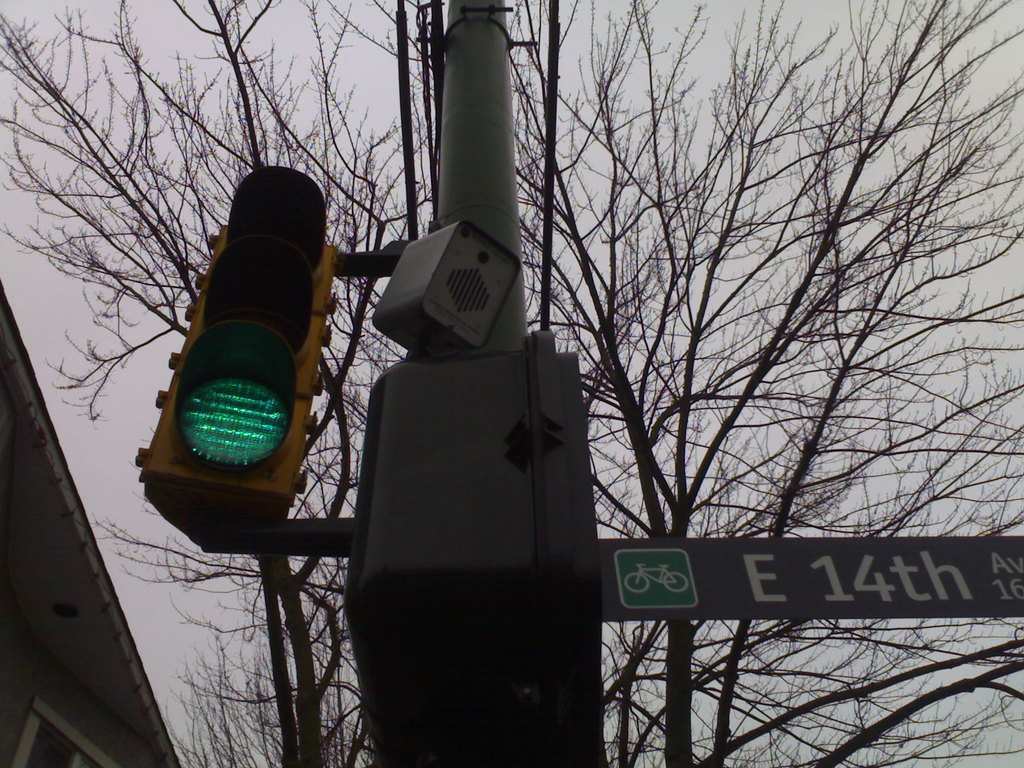green_light: (177, 220, 295, 475)
